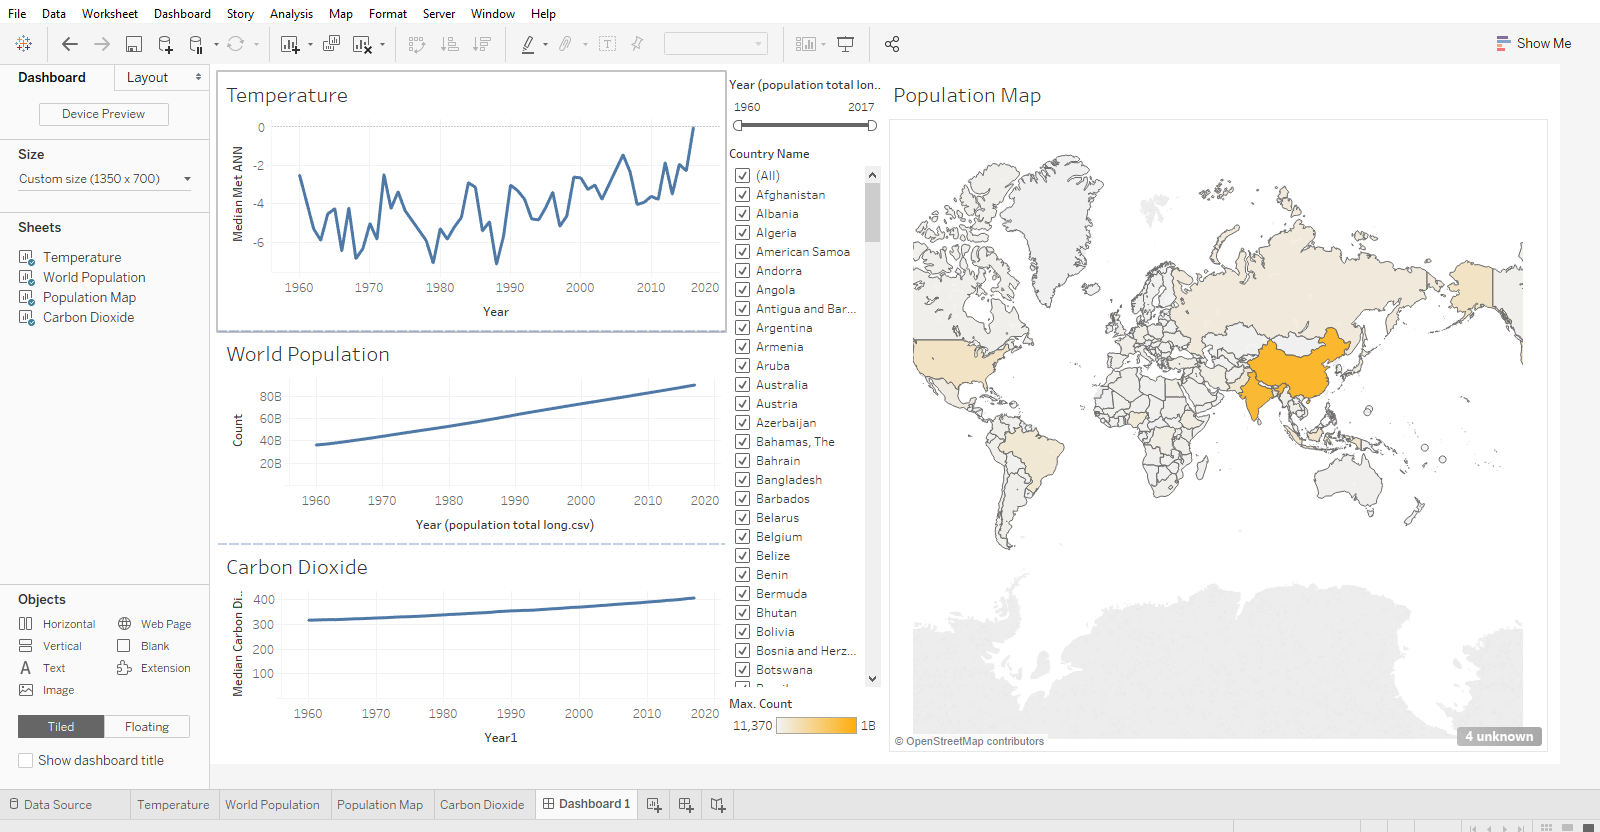

The page's visual inventory and layout, read from the dashboard file:
{"tool":"tableau","page":{"name":"Dashboard 1","canvas":[1350,700],"ordinal":0},"visuals":[{"type":"worksheet","title":"Temperature","mark":"Automatic","rows":["metANN"],"cols":["YEAR"],"box":[8,8,507,259]},{"type":"filter","title":"World Population","param":"[federated.0irpgmm1q7towg13uwqyx1o7kvr9].[none:Year (population_total_long.csv):","box":[515,8,160,69]},{"type":"worksheet","title":"Population Map","mark":"Automatic","box":[675,8,667,684]},{"type":"filter","title":"World Population","param":"[federated.0irpgmm1q7towg13uwqyx1o7kvr9].[none:Country Name:nk]","box":[515,77,160,550]},{"type":"worksheet","title":"World Population","mark":"Automatic","rows":["Count"],"cols":["Year (population_total_long.csv)"],"box":[8,267,507,212.5]},{"type":"worksheet","title":"Carbon Dioxide","mark":"Automatic","rows":["Carbon Dioxide (ppm)"],"cols":["Year"],"box":[8,479.5,507,212.5]},{"type":"legend","title":"Population Map","param":"[federated.0irpgmm1q7towg13uwqyx1o7kvr9].[max:Count:qk]","box":[515,627,160,65]}]}

Visuals, with their boxes on the page's 1350x700 design canvas (x1, y1, x2, y2). These are canvas units, not pixel positions in the 1600x832 screenshot, which may show the page scaled, cropped or inside an application window:
"Temperature" worksheet: select_region(8, 8, 515, 267)
"World Population" filter: select_region(515, 8, 675, 77)
"Population Map" worksheet: select_region(675, 8, 1342, 692)
"World Population" filter: select_region(515, 77, 675, 627)
"World Population" worksheet: select_region(8, 267, 515, 480)
"Carbon Dioxide" worksheet: select_region(8, 480, 515, 692)
"Population Map" legend: select_region(515, 627, 675, 692)
